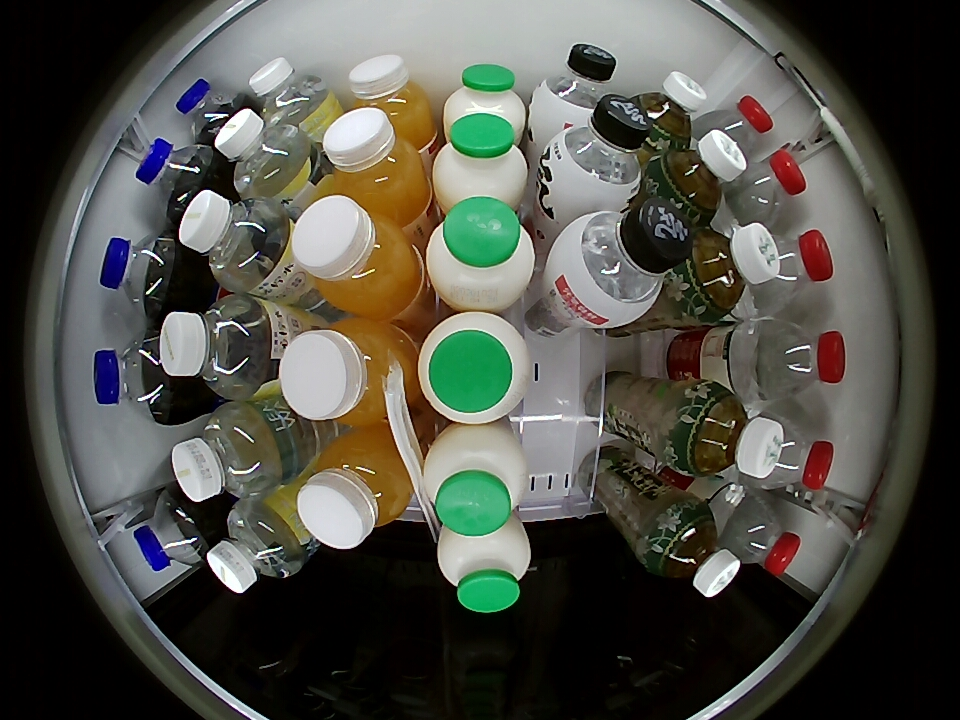baishikele-2: (92, 333, 174, 423), (99, 232, 180, 318), (133, 490, 212, 572), (135, 138, 217, 216), (175, 78, 245, 144)
liziyuan: (418, 312, 531, 423), (426, 198, 536, 312), (424, 423, 527, 536), (433, 108, 529, 211), (438, 520, 530, 613), (444, 63, 525, 137)
moliqingcha: (671, 385, 783, 482), (676, 222, 781, 321), (643, 502, 742, 597), (650, 130, 747, 223), (631, 71, 707, 149)
nongfushanquan: (758, 320, 846, 400), (726, 496, 802, 576), (757, 414, 834, 492), (759, 229, 834, 309), (730, 150, 808, 225), (706, 94, 774, 159)
qinningshui: (157, 296, 273, 400), (177, 190, 289, 293), (170, 402, 282, 503), (207, 500, 308, 594), (214, 108, 312, 199), (248, 58, 331, 127)
weic: (292, 194, 424, 318), (280, 319, 416, 424), (298, 431, 413, 549), (321, 108, 432, 224), (348, 55, 435, 146)
yuanqishui: (549, 199, 691, 328), (541, 95, 654, 210), (532, 43, 617, 126)
